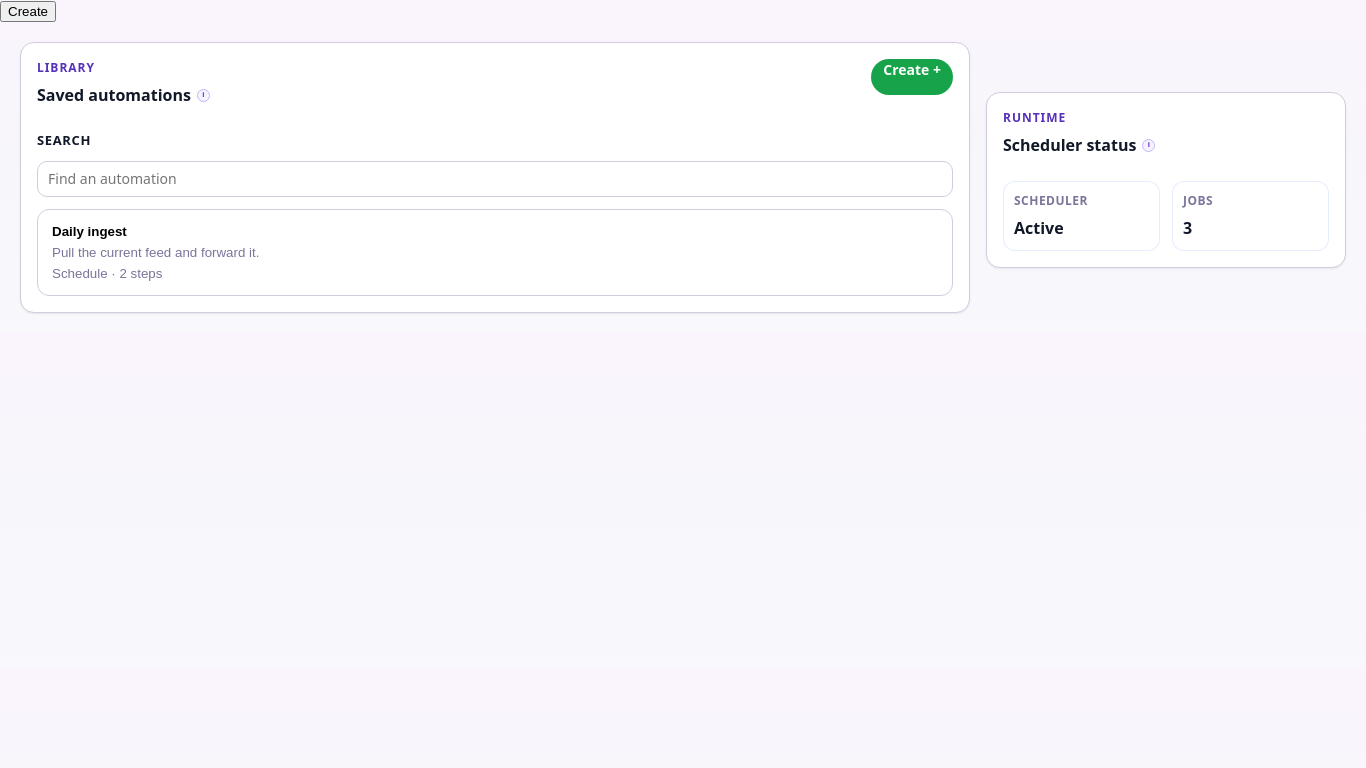
Test case: automation UI ids › renders deterministic ids for automation library title rows and detail stats
Expected: the element with id "automations-library-list-title-row" is shown, [37,83,210,107]
Expected: the element with id "automations-library-runtime-title-row" is shown, [1003,133,1155,157]
Click the list item with id "automations-library-item-automation-daily-ingest" at [89, 231], box [37,208,953,296]
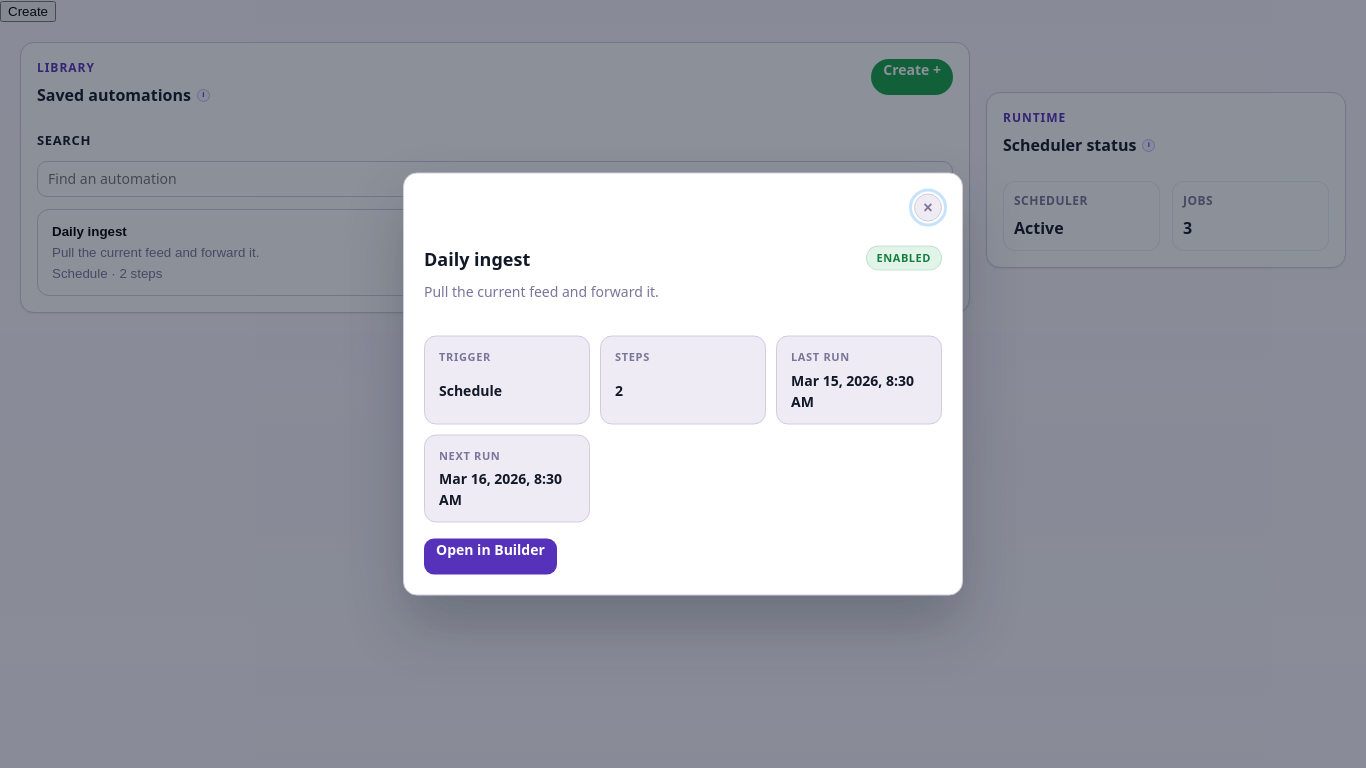
Result: the dialog is shown at [403,172,963,596]
Result: the text with id "automations-library-detail-stat-trigger-label" reads "Trigger" at [439,348,491,364]
Result: the text with id "automations-library-detail-stat-trigger-value" reads "Schedule" at [439,380,502,400]
